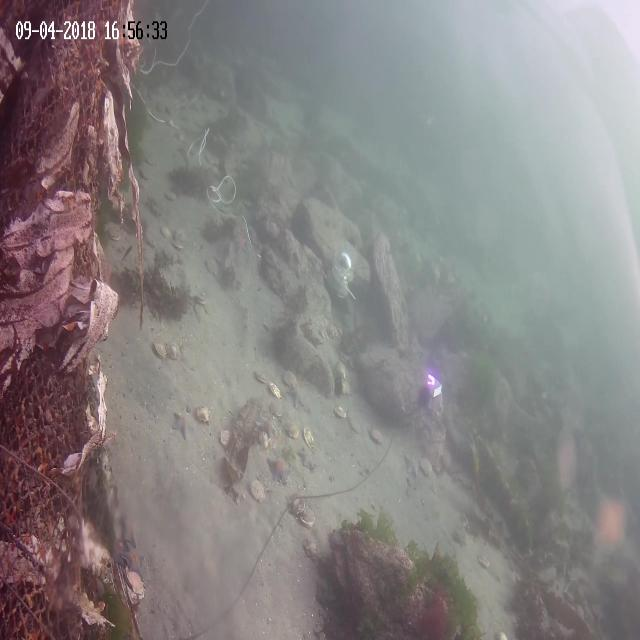scallop: (125, 566, 146, 595), (302, 536, 321, 562), (248, 477, 266, 504), (303, 422, 317, 455), (150, 337, 168, 362), (298, 504, 316, 528), (204, 252, 220, 278), (368, 422, 384, 448), (282, 418, 300, 440), (164, 340, 182, 362), (106, 220, 122, 243), (138, 160, 156, 180), (252, 366, 268, 388), (344, 412, 359, 434), (268, 380, 283, 402), (291, 494, 306, 516), (331, 402, 347, 421), (258, 430, 271, 450), (197, 405, 212, 422), (219, 427, 232, 445), (270, 403, 282, 421), (420, 458, 432, 476), (194, 290, 207, 306), (162, 223, 172, 243), (172, 237, 184, 253), (478, 552, 490, 566)
starfish: (594, 484, 630, 557), (118, 540, 144, 576), (120, 511, 140, 549), (172, 410, 196, 441), (268, 455, 289, 485), (298, 444, 316, 472), (255, 413, 273, 439), (403, 450, 420, 476), (289, 382, 305, 409), (235, 230, 248, 256), (428, 449, 441, 473)
